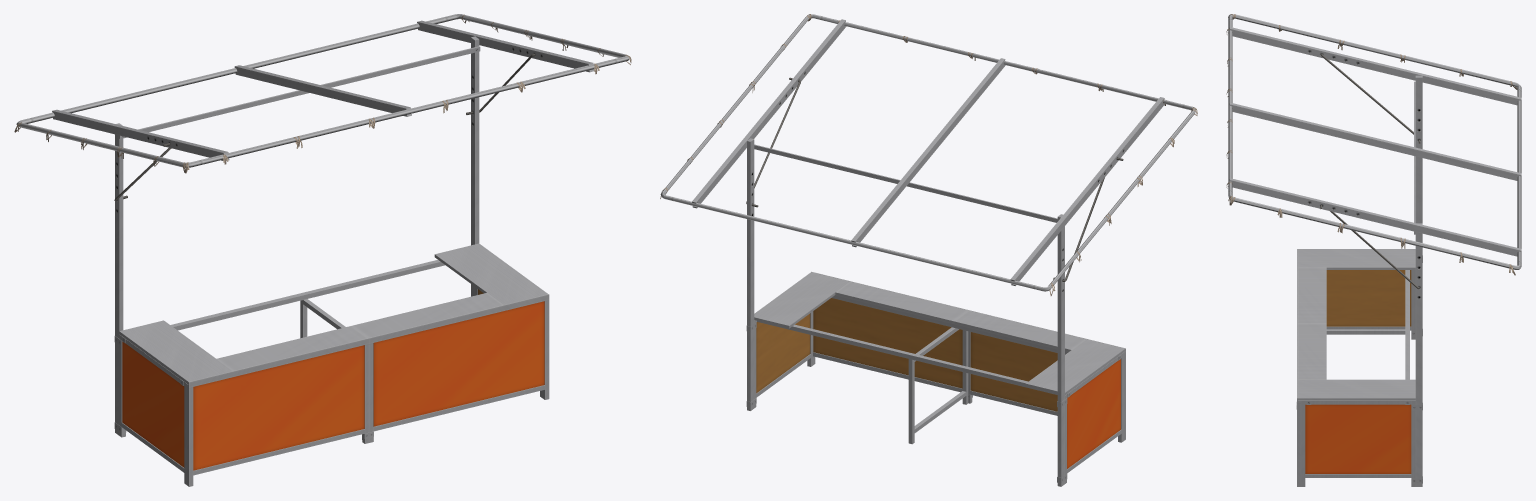
Rendered from jsf_2P_s03_c01_t04.fbx.
3 views of the same model, side by side, from view 1: azimuth 30°, elevation 25°; view 2: azimuth 150°, elevation 25°; view 3: azimuth 270°, elevation 25° (orthographic). The views are drawn at different scales.
Parts seen in each view (by area): view 1: Base_s03_c01, Pillar2_s03, Table_2P_s03_t04, Rope_2P_s03; view 2: Base_s03_c01, Pillar2_s03, Table_2P_s03_t04, Support; view 3: Pillar2_s03, Base_s03_c01, Table_2P_s03_t04, Rope_2P_s03, Support.
Boxes of the visible parts, <box> form: Base_s03_c01: <box>114,287,549,486</box>; Pillar2_s03: <box>16,14,629,435</box>; Table_2P_s03_t04: <box>119,243,547,385</box>; Rope_2P_s03: <box>14,14,631,173</box>; Base_s03_c01: <box>746,271,1125,483</box>; Pillar2_s03: <box>660,14,1196,486</box>; Table_2P_s03_t04: <box>754,272,1125,397</box>; Support: <box>908,327,968,444</box>; Pillar2_s03: <box>1228,14,1521,486</box>; Base_s03_c01: <box>1296,249,1422,486</box>; Table_2P_s03_t04: <box>1298,249,1415,404</box>; Rope_2P_s03: <box>1226,14,1517,275</box>; Support: <box>1326,329,1405,334</box>.
Size of the model in its own units: 316 by 244 by 211.
